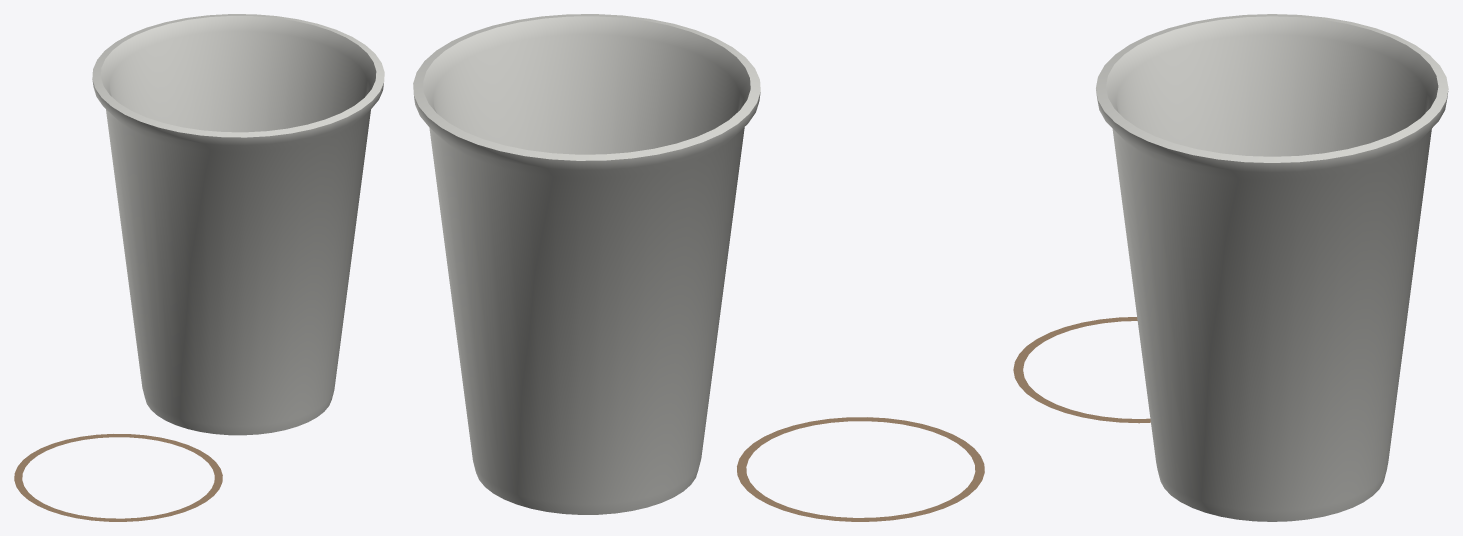
File: Kit_CoffeeCup.fbx
3 renders of one model, left to right at view 1: azimuth 30°, elevation 25°; view 2: azimuth 150°, elevation 25°; view 3: azimuth 270°, elevation 25°, orthographic. The views are drawn at different scales.
Visible parts, largest first — view 1: Kit_CoffeeCup_LOD0; view 2: Kit_CoffeeCup_LOD0; view 3: Kit_CoffeeCup_LOD0.
Part boxes in pixels (bbox=[...]): Kit_CoffeeCup_LOD0: bbox=[14, 14, 384, 521]; Kit_CoffeeCup_LOD0: bbox=[413, 14, 984, 521]; Kit_CoffeeCup_LOD0: bbox=[1013, 14, 1448, 521].
Size of what is drawn, in the model's own units: 0.1232 by 0.0965 by 0.0982.
